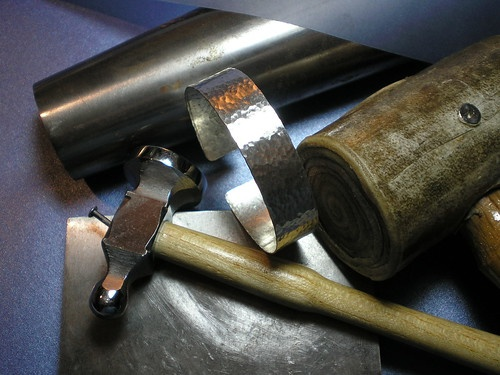hammer: (88, 142, 500, 374)
